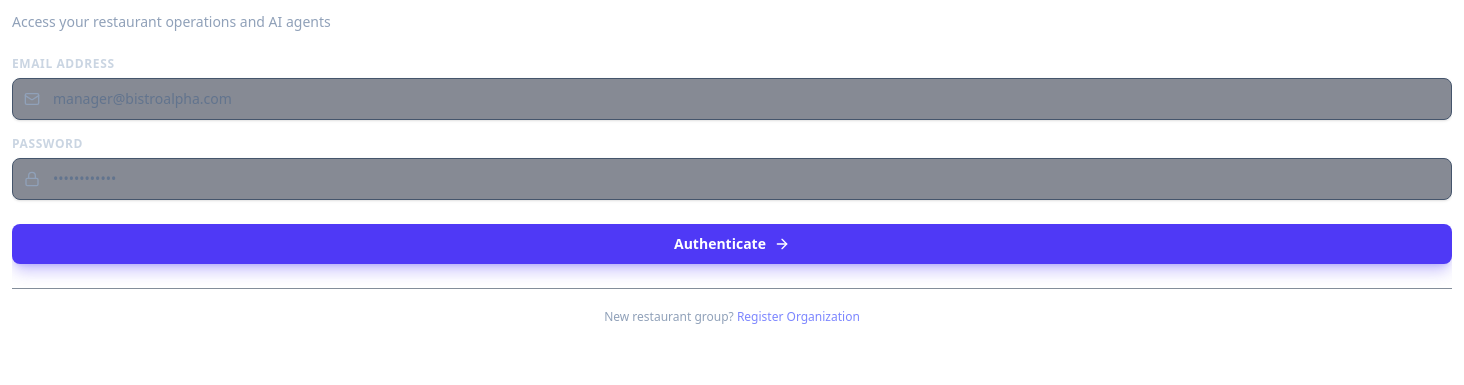
it: LoginPage Component › shows validation error when submitted empty
The width and height of the screenshot is (1464, 385).
Click the button "Authenticate".
click(732, 244)  # box [12, 224, 1452, 264]
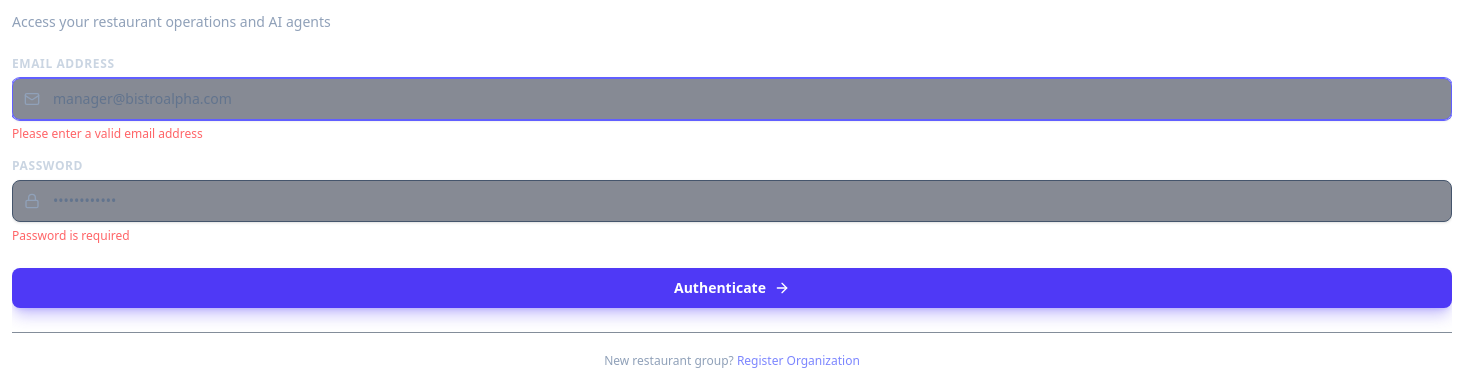
Check: the text "Please enter a valid email address" is shown, box [12, 125, 203, 142]
